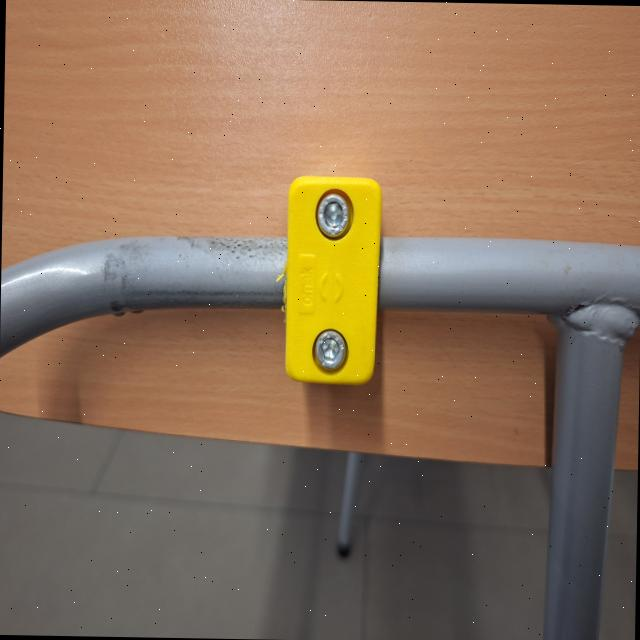Hex Socket Allen: (312, 327, 348, 373), (314, 194, 350, 238)
